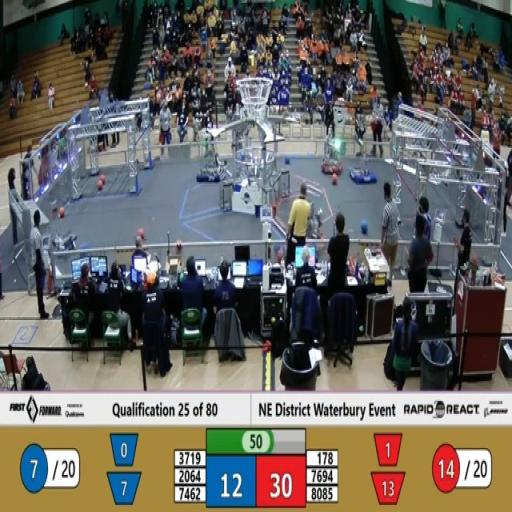robot: (190, 125, 225, 187), (298, 196, 331, 257), (318, 124, 346, 185), (349, 142, 382, 190), (55, 221, 81, 266)
